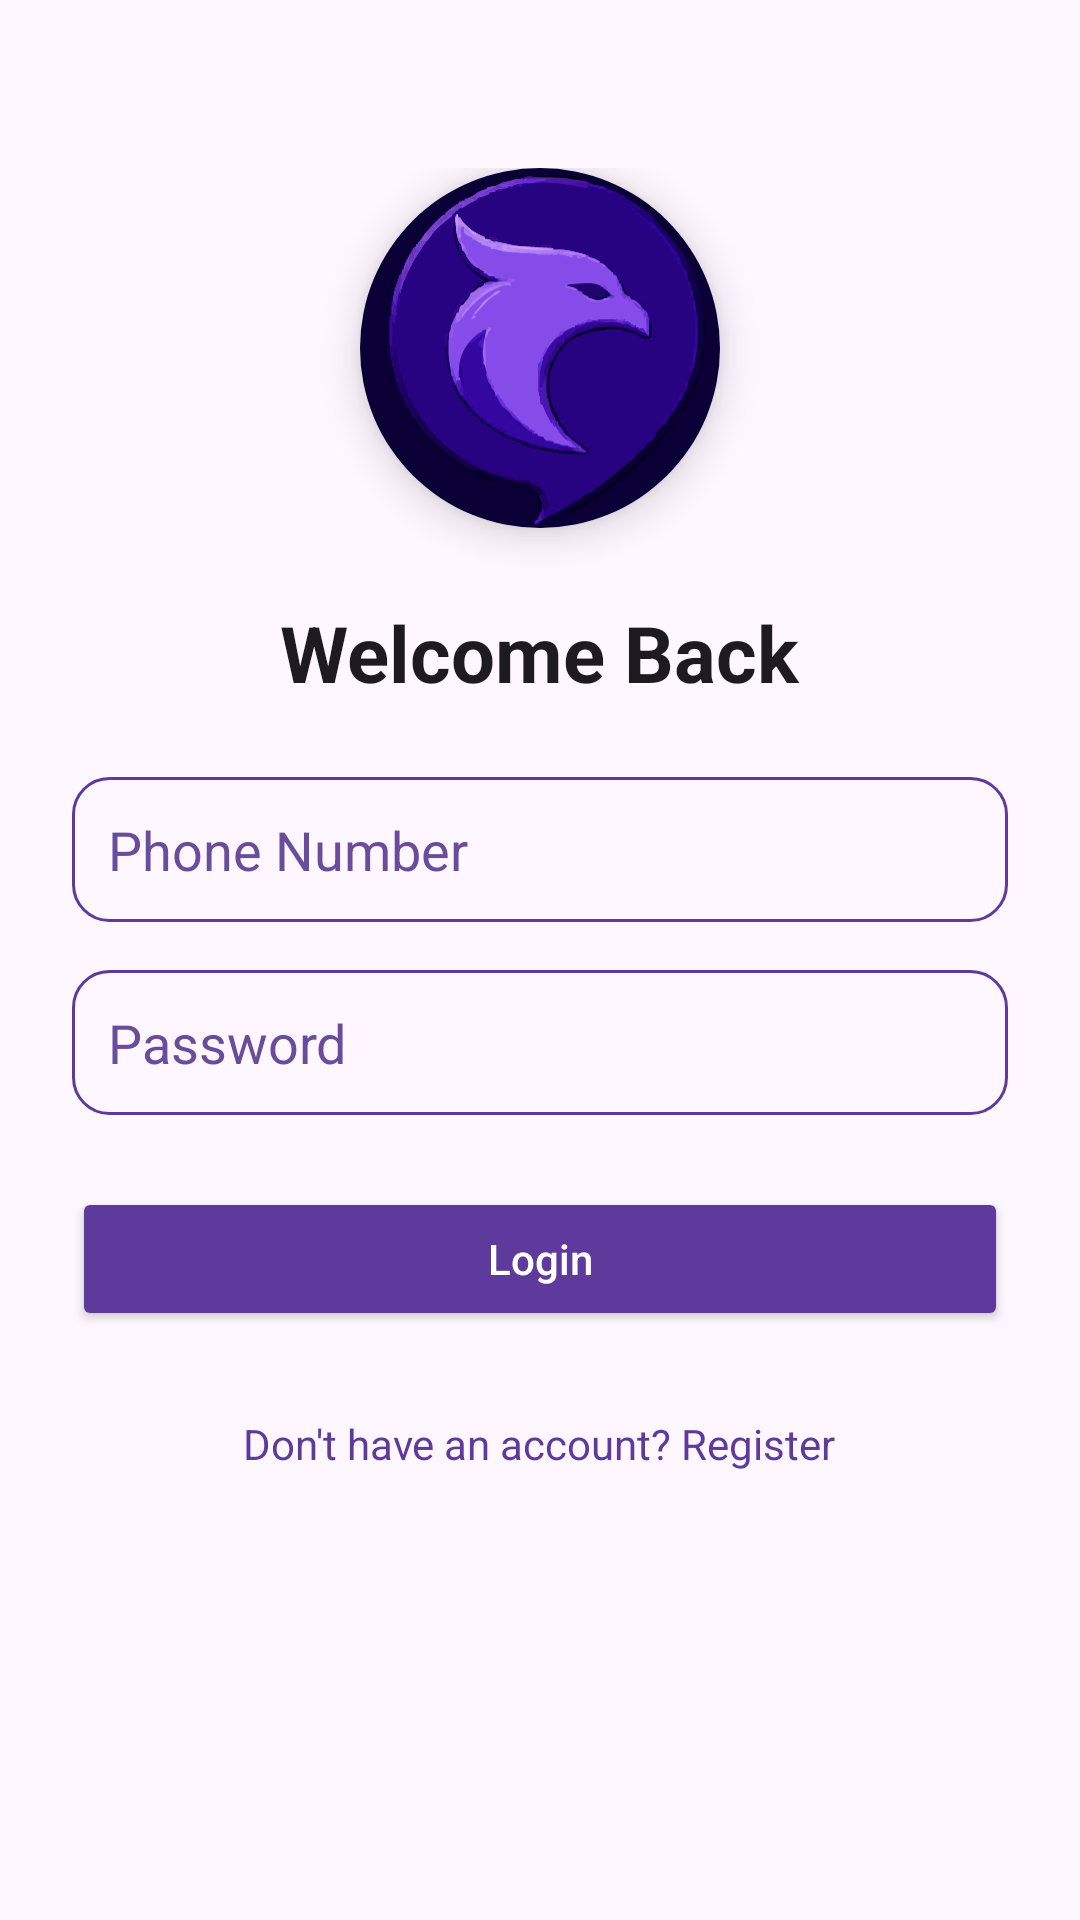

Icons on this 1080px x 1920px Android screen, each with the point to tap as (x,y):
Login Icon: (540,348)
